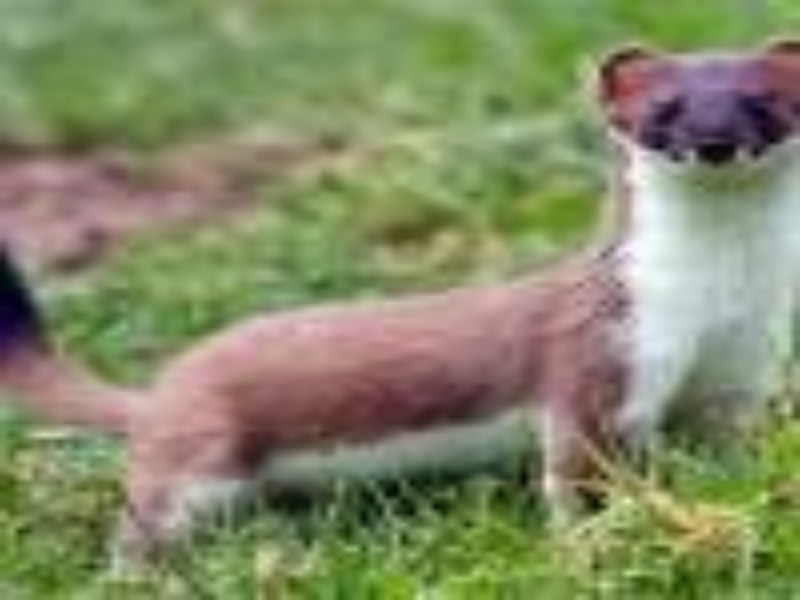minkish: (1, 32, 799, 572)
